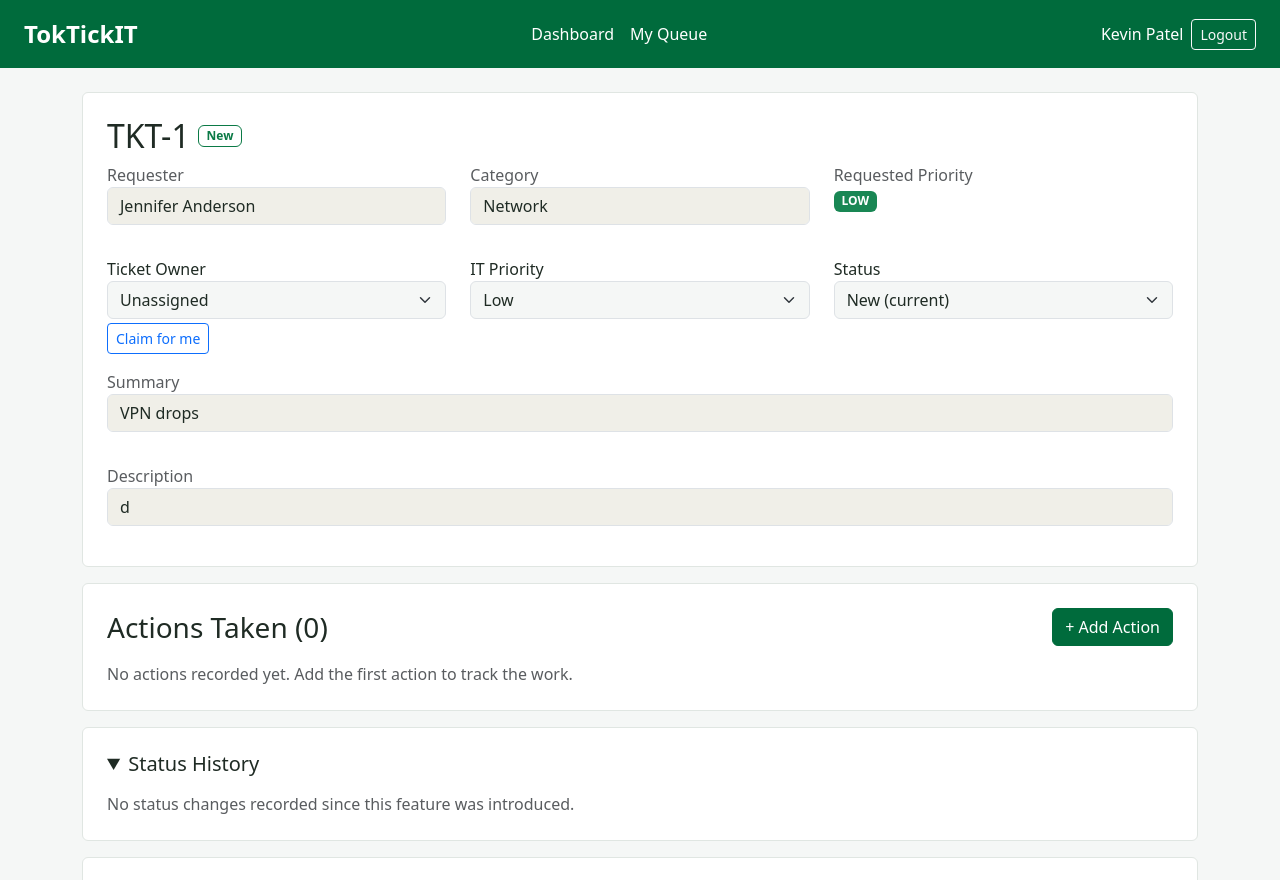
Scenario: Ticket workflow UI › cancelling the confirm row does not save
Select "Cancelled" in the dropdown with test id "status-select" at (1003, 300), box x1=834 y1=281 x2=1173 y2=319
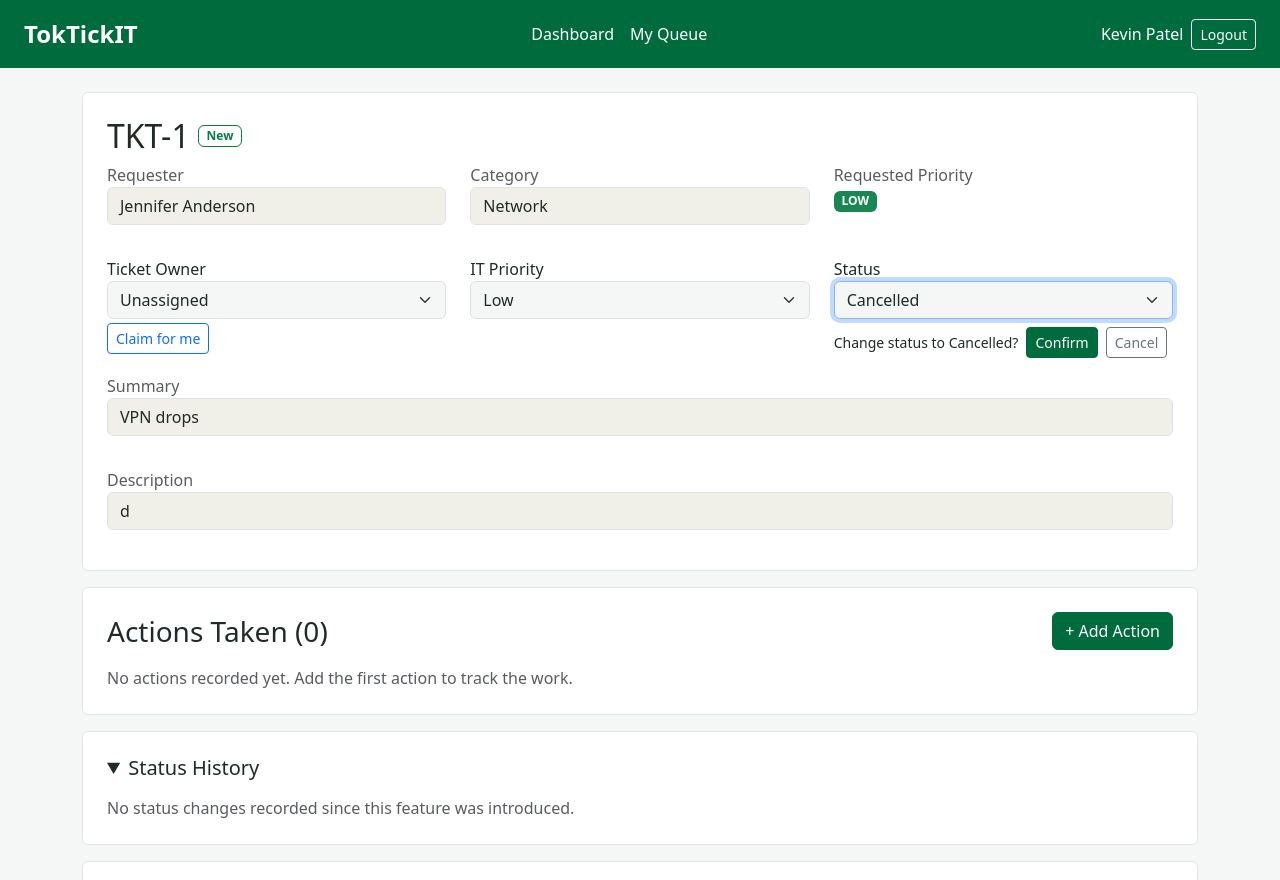
Click the button "Cancel" at (1136, 343), box x1=1106 y1=327 x2=1167 y2=358
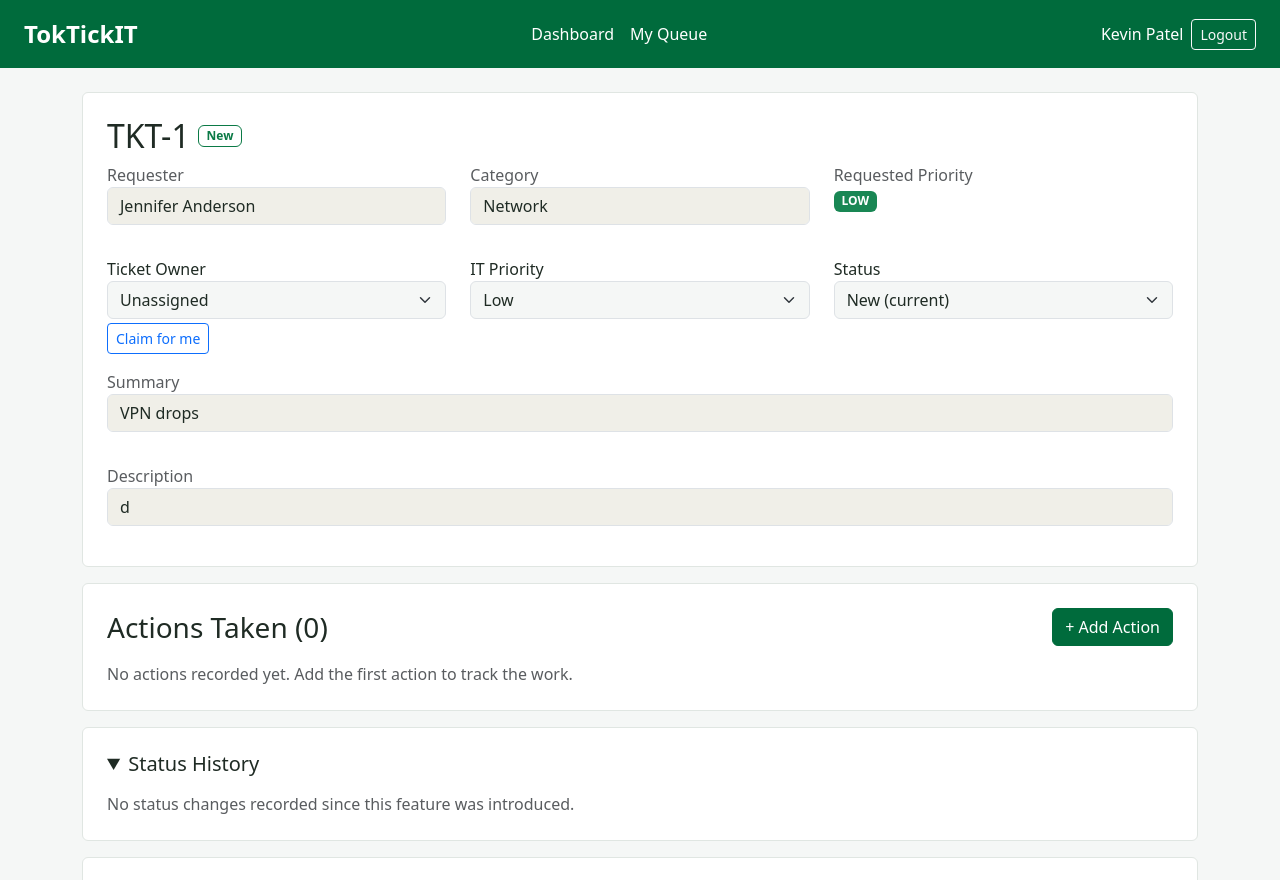
Now the element with test id "status-confirm" is gone
